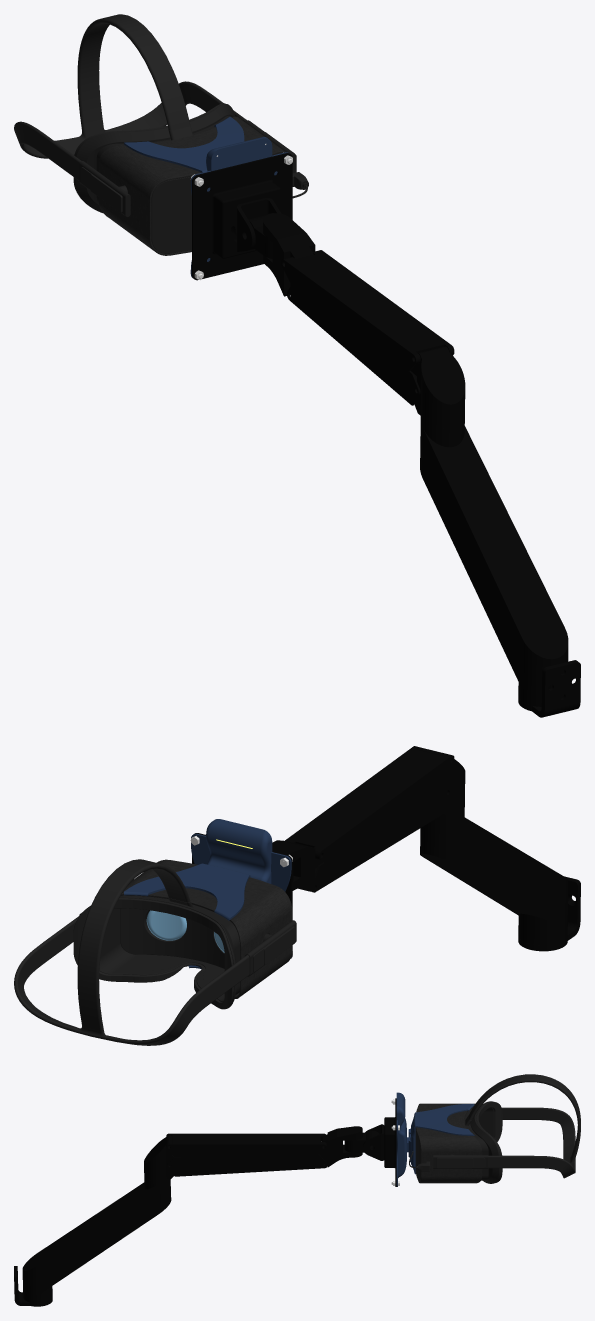
File: Assignment5.glb
3 renders of one model, top to bottom at view 1: azimuth 30°, elevation 25°; view 2: azimuth 150°, elevation 25°; view 3: azimuth 270°, elevation 25°, orthographic. The views are drawn at different scales.
Parts seen in each view (by area): view 1: Arm Base, Headset, Arm Head, Clip Base, Mount Backplate; view 2: Headset, Arm Base, Mount Cover, Clip Base, Mount Backplate; view 3: Arm Base, Headset, Arm Head, Clip Base, Mount Cover.
Boxes of the visible parts, left/top/right/bottom form: Arm Base: left=248, top=213, right=580, bottom=717; Headset: left=14, top=14, right=296, bottom=255; Arm Head: left=192, top=153, right=292, bottom=280; Clip Base: left=124, top=116, right=244, bottom=172; Mount Backplate: left=190, top=137, right=288, bottom=277; Headset: left=14, top=859, right=296, bottom=1045; Arm Base: left=272, top=746, right=580, bottom=951; Mount Cover: left=206, top=819, right=271, bottom=883; Clip Base: left=124, top=863, right=250, bottom=968; Mount Backplate: left=191, top=819, right=291, bottom=957; Arm Base: left=14, top=1126, right=379, bottom=1306; Headset: left=415, top=1074, right=580, bottom=1183; Arm Head: left=363, top=1098, right=396, bottom=1186; Clip Base: left=414, top=1103, right=474, bottom=1174; Mount Cover: left=398, top=1092, right=410, bottom=1177.
Size of the model in its own units: 0.9788 by 2.01 by 4.62.
Materials: 11 (1 with a texture image).
